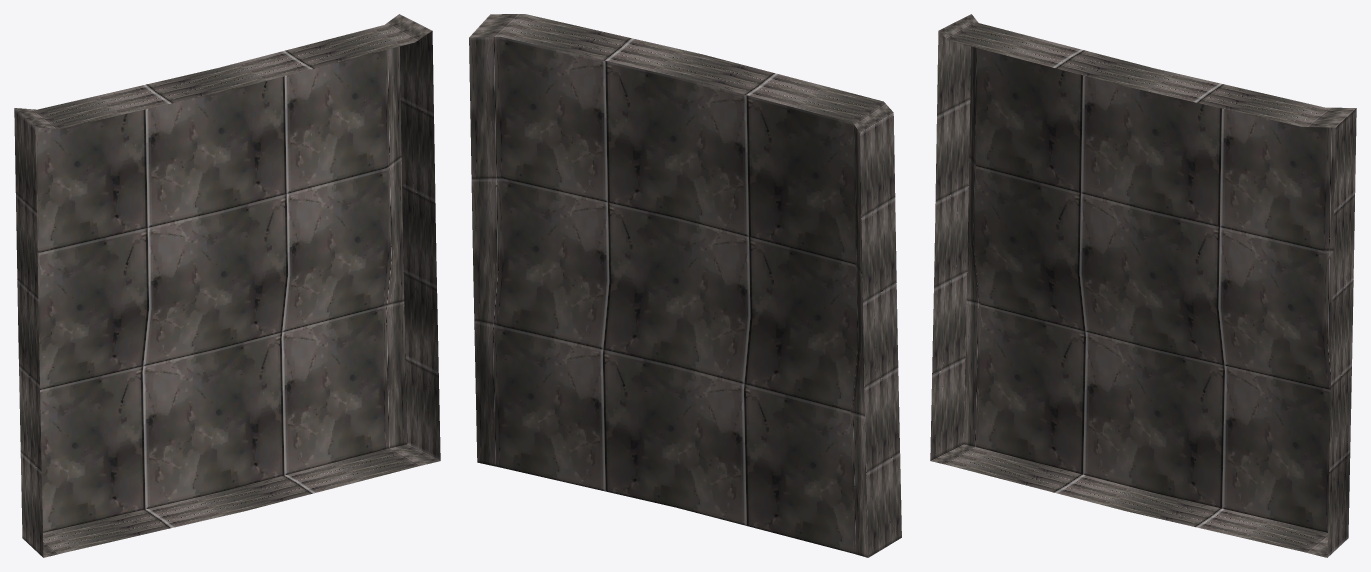
File: CH09_SMAUG_PLAYSURFACE_LAIR71.fbx
3 views of the same model, side by side, from view 1: azimuth 30°, elevation 25°; view 2: azimuth 150°, elevation 25°; view 3: azimuth 330°, elevation 25° (orthographic).
Parts seen in each view (by area): view 1: CH09_SMAUG_PLAYSURFACE_LAIR71; view 2: CH09_SMAUG_PLAYSURFACE_LAIR71; view 3: CH09_SMAUG_PLAYSURFACE_LAIR71.
Boxes of the visible parts, box(x1,y1,x2,y2) form: CH09_SMAUG_PLAYSURFACE_LAIR71: box(14, 14, 440, 557); CH09_SMAUG_PLAYSURFACE_LAIR71: box(469, 14, 901, 557); CH09_SMAUG_PLAYSURFACE_LAIR71: box(930, 14, 1356, 557).
Size of the model in its own units: 185569 by 190511 by 31099.
1 material, 1 textured.
